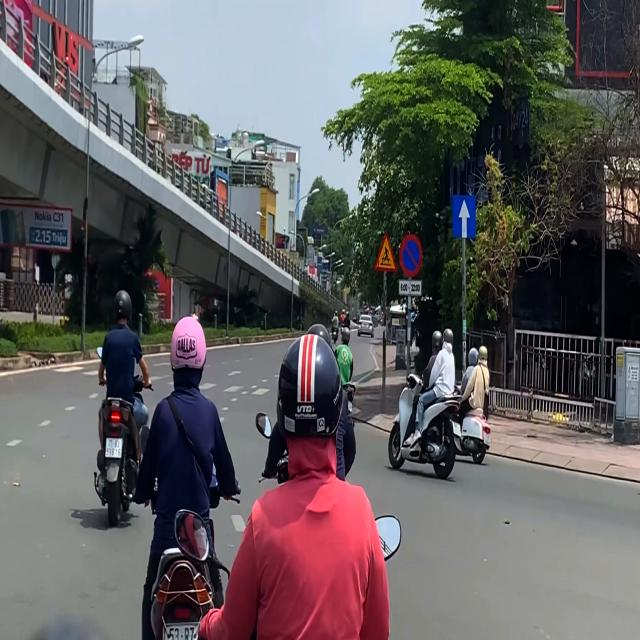Cam do: (398, 233, 422, 276)
Chi dan: (452, 194, 476, 240)
Nguoi di bo cat ngang: (374, 230, 398, 272)
